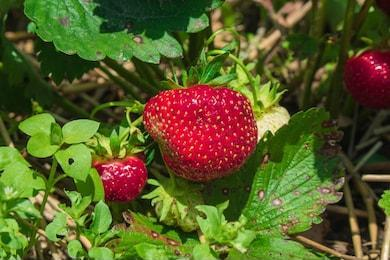Fresa: (137, 73, 263, 185), (79, 146, 149, 206)
